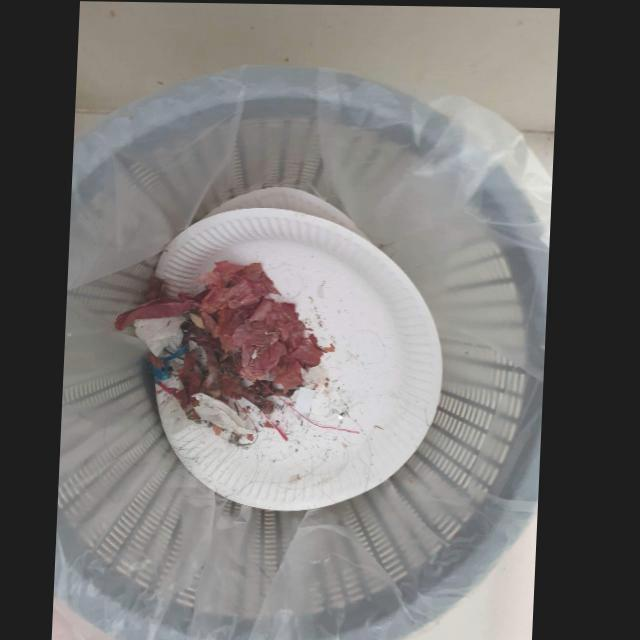cardboard: (158, 206, 447, 512), (204, 186, 374, 241)
left_over_food: (177, 321, 300, 412)
